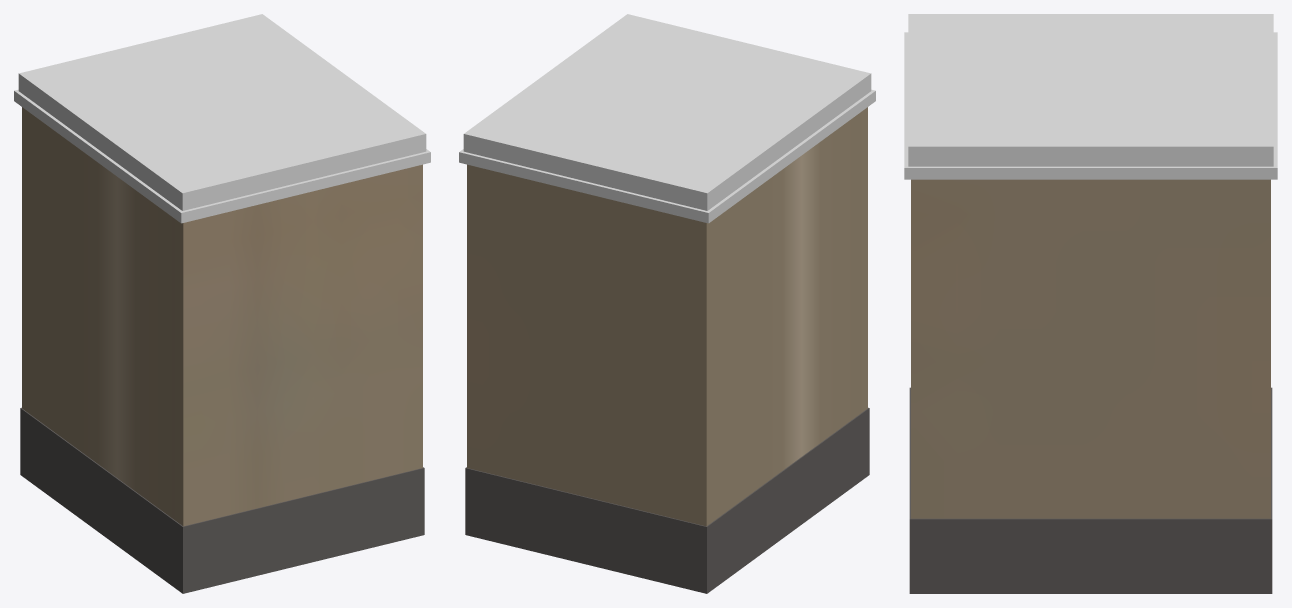
File: bldg_sandstone2.glb
The picture shows the model from 3 angles, left to right: view 1: azimuth 30°, elevation 25°; view 2: azimuth 150°, elevation 25°; view 3: azimuth 270°, elevation 25°; orthographic projection. The views are drawn at different scales.
Visible parts, largest first — view 1: bldg_sandstone2_body, bldg_sandstone2_parapet, bldg_sandstone2_store, bldg_sandstone2_corn; view 2: bldg_sandstone2_body, bldg_sandstone2_parapet, bldg_sandstone2_store, bldg_sandstone2_corn; view 3: bldg_sandstone2_body, bldg_sandstone2_parapet, bldg_sandstone2_store, bldg_sandstone2_corn.
Part boxes in pixels (<box>): bldg_sandstone2_body: <box>22,107,422,526</box>; bldg_sandstone2_parapet: <box>18,14,426,210</box>; bldg_sandstone2_store: <box>20,407,424,593</box>; bldg_sandstone2_corn: <box>14,89,430,223</box>; bldg_sandstone2_body: <box>467,107,867,526</box>; bldg_sandstone2_parapet: <box>463,14,871,210</box>; bldg_sandstone2_store: <box>465,407,869,593</box>; bldg_sandstone2_corn: <box>459,89,875,223</box>; bldg_sandstone2_body: <box>911,179,1270,518</box>; bldg_sandstone2_parapet: <box>908,14,1273,166</box>; bldg_sandstone2_store: <box>909,387,1272,593</box>; bldg_sandstone2_corn: <box>904,32,1277,179</box>.
Bounding box in the file's own units: 12.5 × 19.2 × 14.5.
2 materials, 1 textured.
